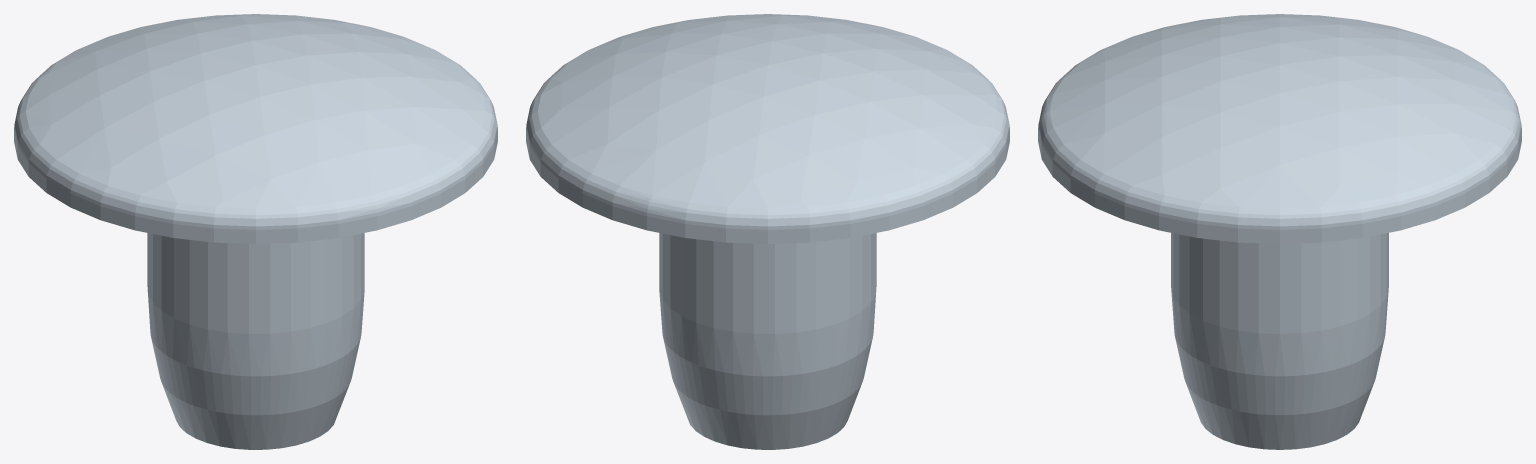
3 views of the same model, side by side, from view 1: azimuth 30°, elevation 25°; view 2: azimuth 150°, elevation 25°; view 3: azimuth 270°, elevation 25° (orthographic).
Parts seen in each view (by area): view 1: 10118528; view 2: 10118528; view 3: 10118528.
Part boxes in pixels (left/top/right/bottom): 10118528: left=14, top=14, right=497, bottom=449; 10118528: left=526, top=14, right=1009, bottom=449; 10118528: left=1038, top=14, right=1521, bottom=449.
Bounding box in the file's own units: 1 × 0.8 × 1.
